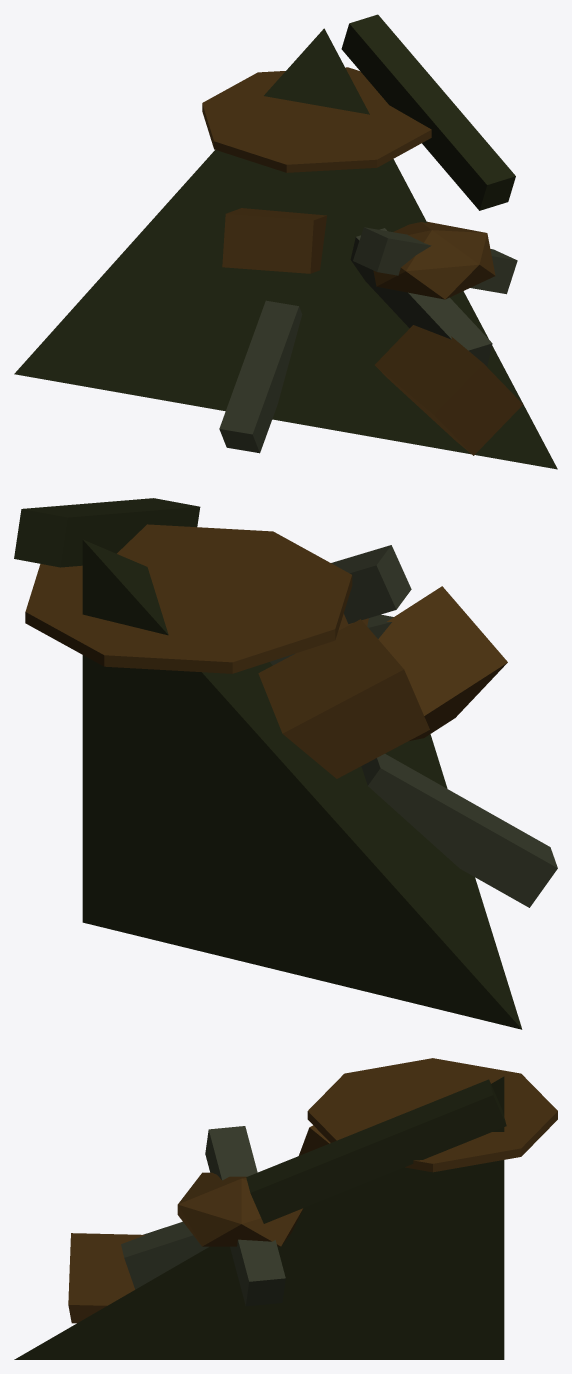
The model's file is SM_PilaZombi_RemateIzq_Altura1_s2_LOD1.fbx.
3 renders of one model, top to bottom at view 1: azimuth 30°, elevation 25°; view 2: azimuth 150°, elevation 25°; view 3: azimuth 270°, elevation 25°, orthographic. The views are drawn at different scales.
Visible parts, largest first — view 1: SM_pila_zombis_v10_LOD1; view 2: SM_pila_zombis_v10_LOD1; view 3: SM_pila_zombis_v10_LOD1.
Part boxes in pixels (box(x1,y1,x2,y2)): SM_pila_zombis_v10_LOD1: box(14, 14, 557, 469); SM_pila_zombis_v10_LOD1: box(14, 498, 557, 1029); SM_pila_zombis_v10_LOD1: box(14, 1058, 557, 1359).
Size of the model in its own units: 1.48 by 1.09 by 1.74.
